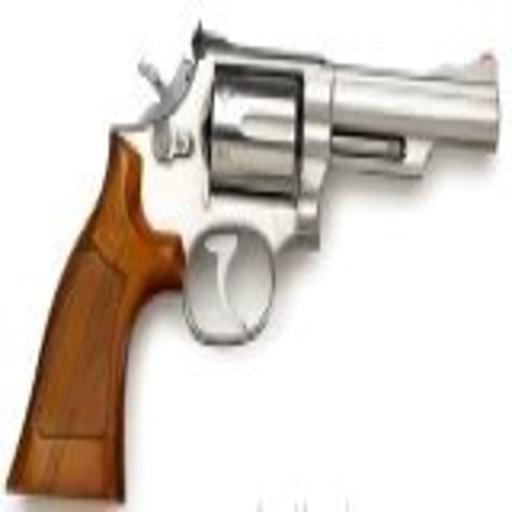Handgun: (2, 20, 511, 502)
